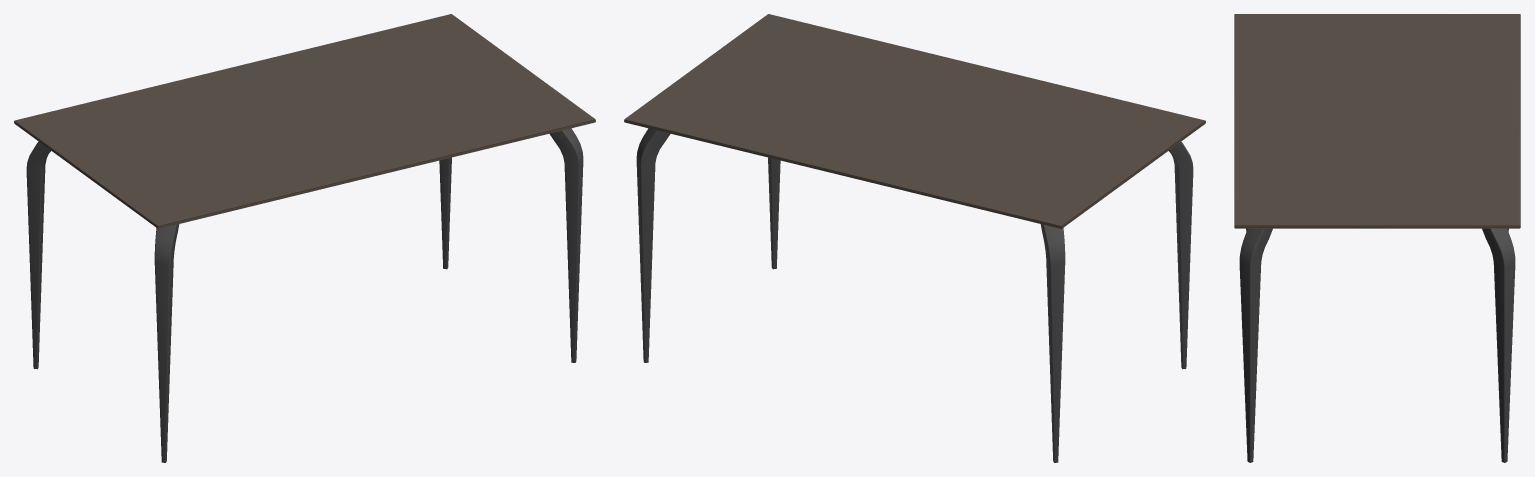
The model's file is table.glb.
The picture shows the model from 3 angles, left to right: view 1: azimuth 30°, elevation 25°; view 2: azimuth 150°, elevation 25°; view 3: azimuth 270°, elevation 25°; orthographic projection.
Visible parts, largest first — view 1: COH_DT_MV1_TTOP, COH_DT_MV1_LEGS; view 2: COH_DT_MV1_TTOP, COH_DT_MV1_LEGS; view 3: COH_DT_MV1_TTOP, COH_DT_MV1_LEGS.
Boxes of the visible parts, box(x1,y1,x2,y2) form: COH_DT_MV1_TTOP: box(14, 14, 595, 228); COH_DT_MV1_LEGS: box(26, 128, 583, 462); COH_DT_MV1_TTOP: box(624, 14, 1205, 228); COH_DT_MV1_LEGS: box(636, 128, 1193, 462); COH_DT_MV1_TTOP: box(1234, 14, 1520, 228); COH_DT_MV1_LEGS: box(1239, 228, 1515, 462).
Bounding box in the file's own units: 1.4 × 0.75 × 0.8.
Materials: 2 (2 with a texture image).
